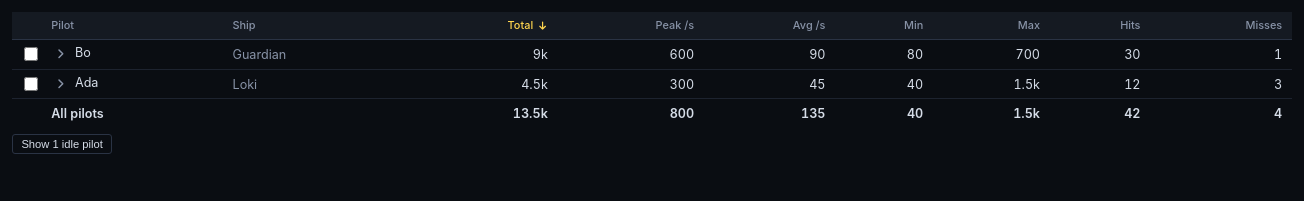
Scenario: StatsTable › hides idle pilots until asked
Click the button "Show 1 idle pilot" at coordinates (62, 144), box [12,134,112,154]
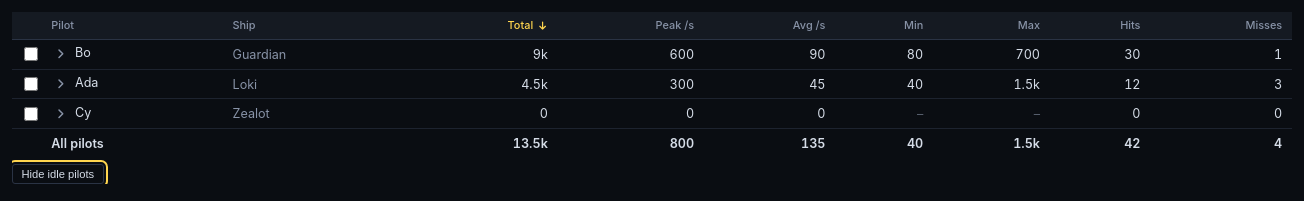
Expected: the row with test id "stats-row-3" is shown, [12,99,1292,129]
